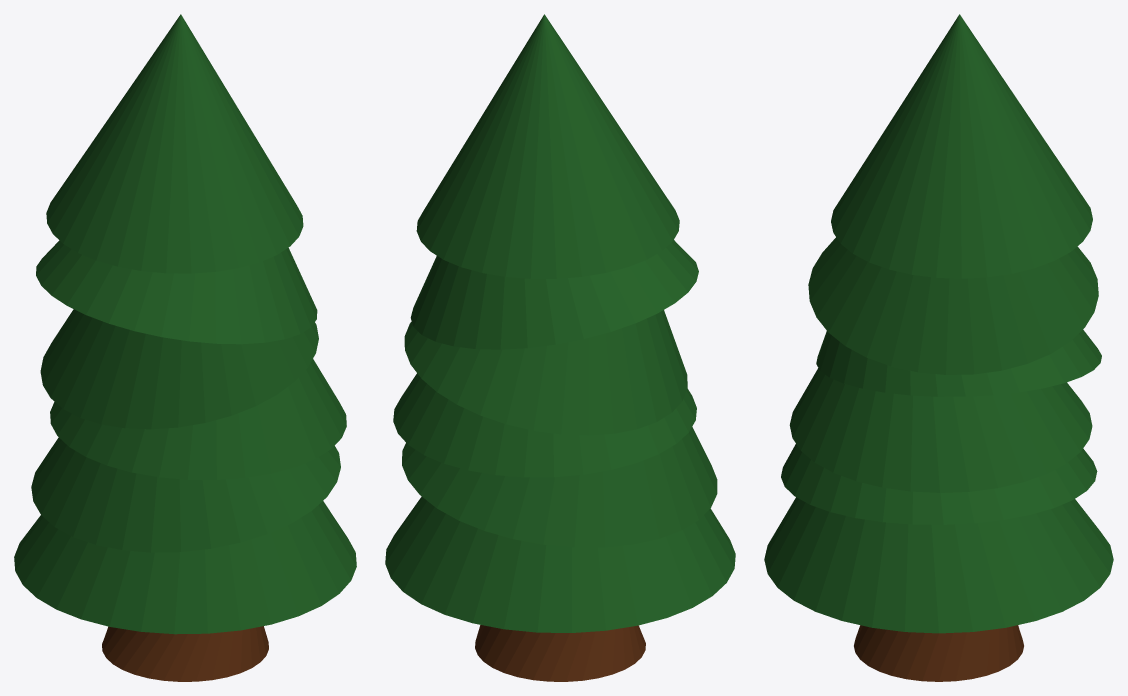
The model's file is tree.fbx.
3 views of the same model, side by side, from view 1: azimuth 30°, elevation 25°; view 2: azimuth 150°, elevation 25°; view 3: azimuth 270°, elevation 25° (orthographic). The views are drawn at different scales.
Parts seen in each view (by area): view 1: Cylinder; view 2: Cylinder; view 3: Cylinder.
Boxes of the visible parts, x1=… form: Cylinder: x1=14, y1=14, x2=356, y2=681; Cylinder: x1=385, y1=14, x2=735, y2=681; Cylinder: x1=764, y1=14, x2=1113, y2=681.
Size of the model in its own units: 889 by 1782 by 889.
